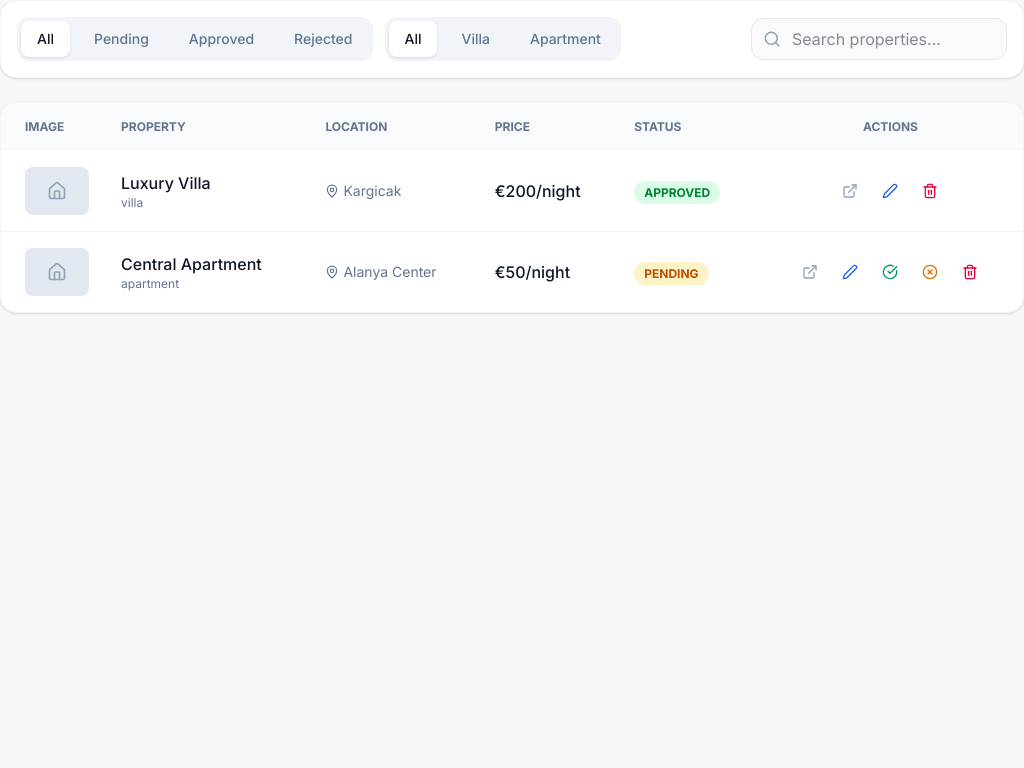
Test: PropertiesPage › openActionModal: opens approve confirmation modal for pending property
Check: the text "Central Apartment" is shown, box x1=121 y1=254 x2=262 y2=274
Click the button titled "Approve". click: (890, 272)
box: x1=874 y1=256 x2=906 y2=288
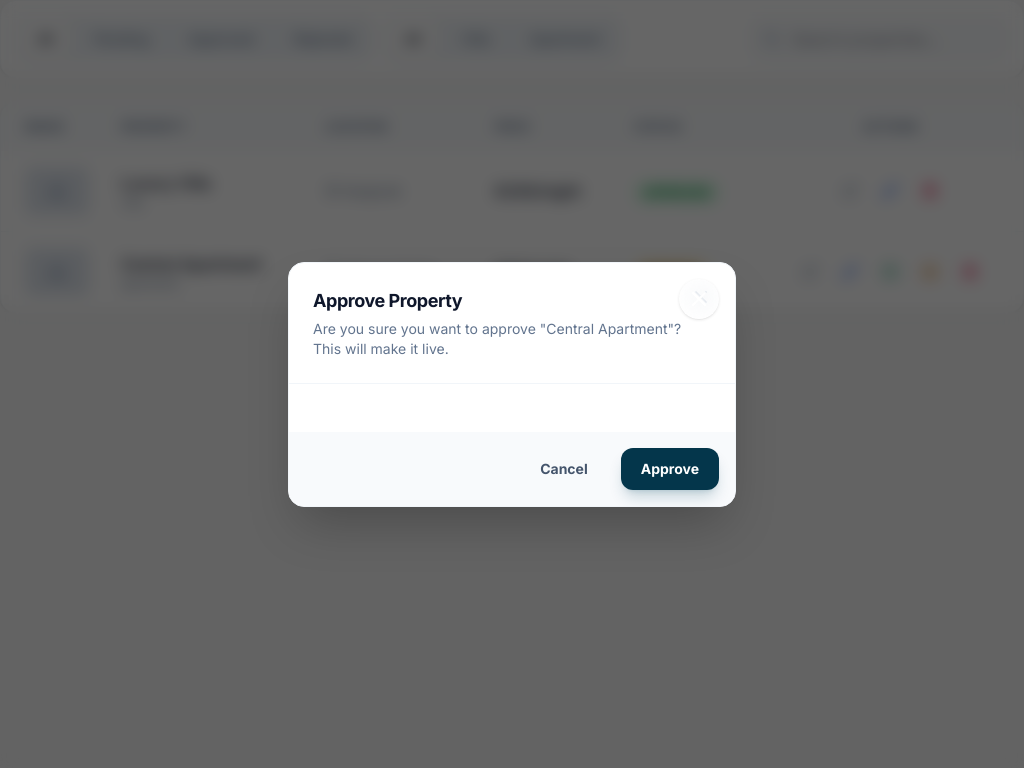
Check: the heading "Approve Property" is shown, box x1=313 y1=290 x2=462 y2=310
